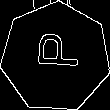P_W: (30, 37, 81, 77)
